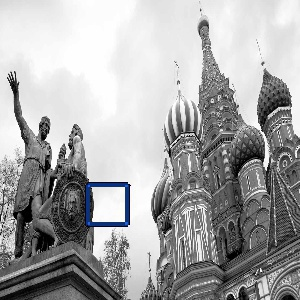square: (84, 180, 132, 228)
